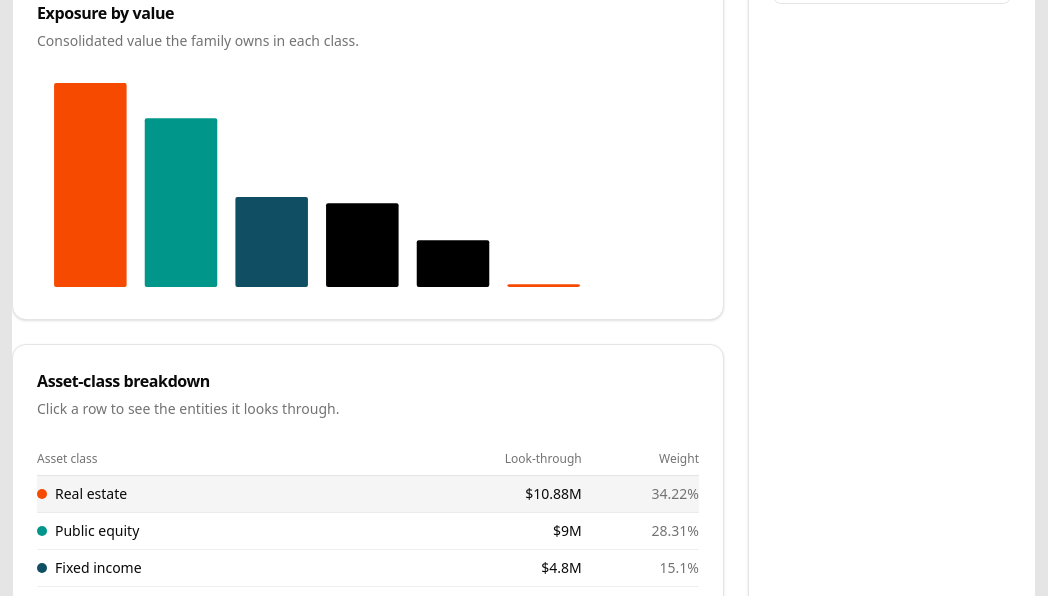
LookThroughView › drills into a clicked asset class and lists its entities
(page scrolled)
What coordinates should you click on to do the following:
click the button with test id "lt-table-row" showing "Public equity $9M 28.31%"
I would click on:
 (97, 531)
Its box is [37, 513, 699, 550].
(page scrolled)
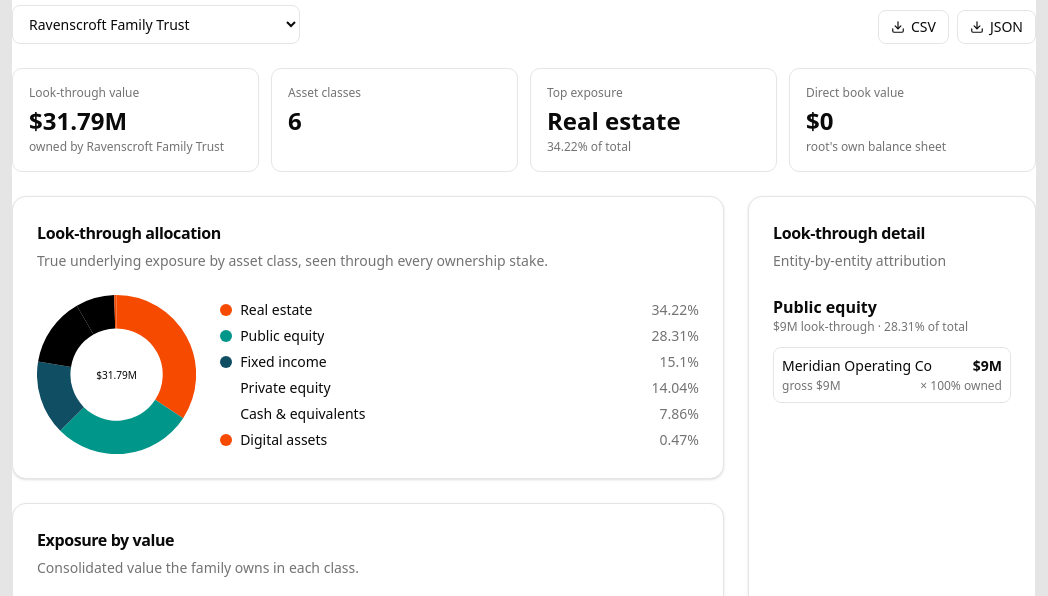
Now the heading with test id "lt-contrib-name" reads "Public equity", box [773, 296, 877, 318]
Now the number of list items with test id "lt-contrib-row" is 1, box [773, 347, 1011, 403]
Now the list item with test id "lt-contrib-row" shows "100%", box [930, 377, 961, 394]
